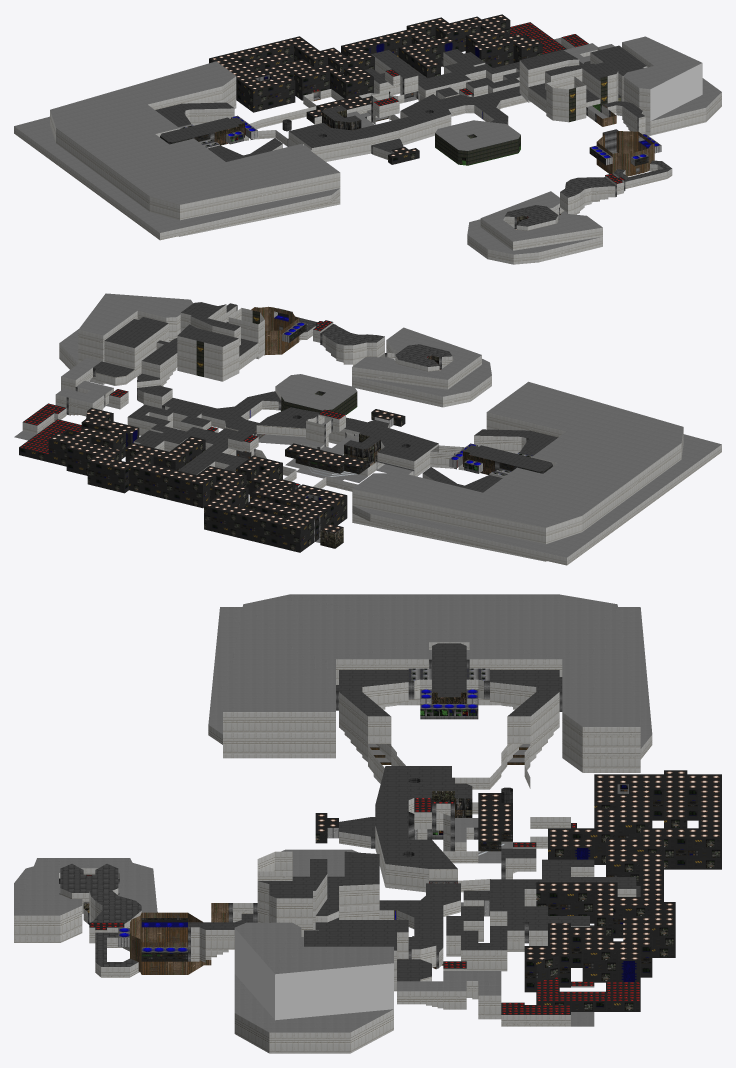
Rendered from Mapa2Sinpuertas.fbx.
3 renders of one model, top to bottom at view 1: azimuth 30°, elevation 25°; view 2: azimuth 150°, elevation 25°; view 3: azimuth 270°, elevation 25°, orthographic. The views are drawn at different scales.
Parts seen in each view (by area): view 1: E1M2; view 2: E1M2; view 3: E1M2.
Boxes of the visible parts, x1,y1,x2,y2 form: E1M2: (14,14,721,264); E1M2: (14,293,721,565); E1M2: (14,594,721,1053).
Size of the model in its own units: 531200 by 74400 by 390400.
Materials: 80 (79 with a texture image).
